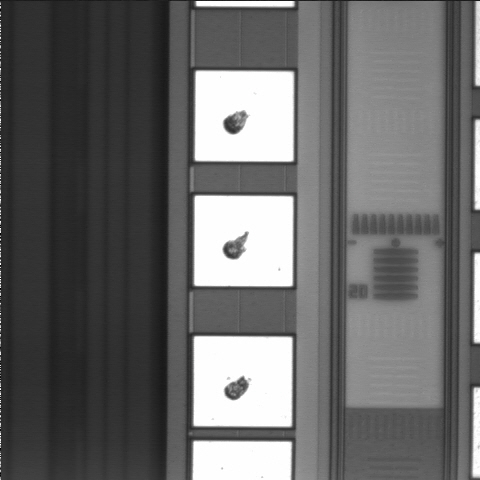pad: (194, 336, 292, 427), (195, 71, 294, 161), (194, 196, 293, 286)
